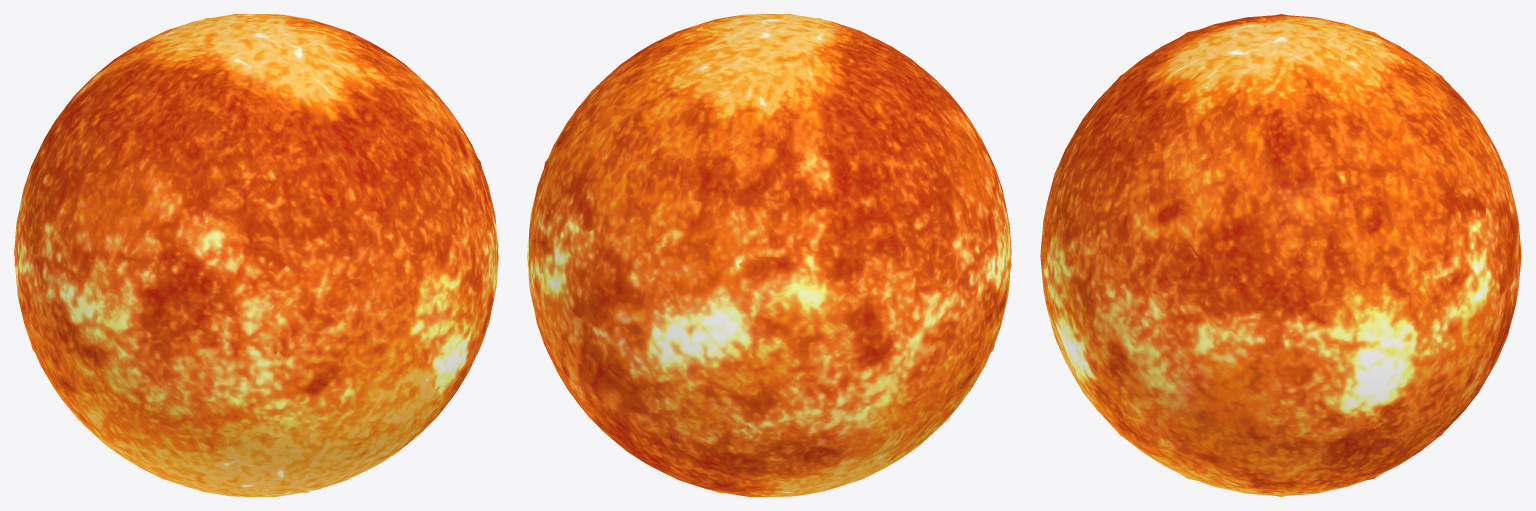
The model's file is sun.glb.
3 renders of one model, left to right at view 1: azimuth 30°, elevation 25°; view 2: azimuth 150°, elevation 25°; view 3: azimuth 270°, elevation 25°, orthographic.
Parts seen in each view (by area): view 1: Sun_LOD1__0, Sun_LOD3__0; view 2: Sun_LOD1__0, Sun_LOD3__0; view 3: Sun_LOD1__0, Sun_LOD3__0.
Boxes of the visible parts, x1,y1,x2,y2 form: Sun_LOD1__0: [14, 14, 498, 496]; Sun_LOD3__0: [14, 18, 498, 495]; Sun_LOD1__0: [527, 14, 1011, 496]; Sun_LOD3__0: [527, 18, 1011, 495]; Sun_LOD1__0: [1040, 15, 1521, 495]; Sun_LOD3__0: [1060, 14, 1501, 496].
Size of the model in its own units: 44.21 by 44.21 by 44.21.
Materials: 2 (1 with a texture image).
